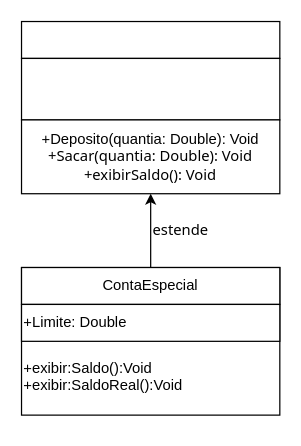
This 301x446 diagram has some shape labels left out. Each missing label, with the centre of its shape:
"+Saldo: Double +Titular: String" goes at point 150,88.
"ContaBancaria" goes at point 150,39.
